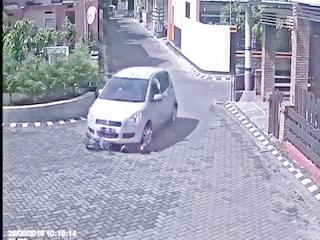Car: (92, 69, 176, 143)
Major Accident: (81, 68, 178, 153)
Motor: (83, 133, 132, 155)
